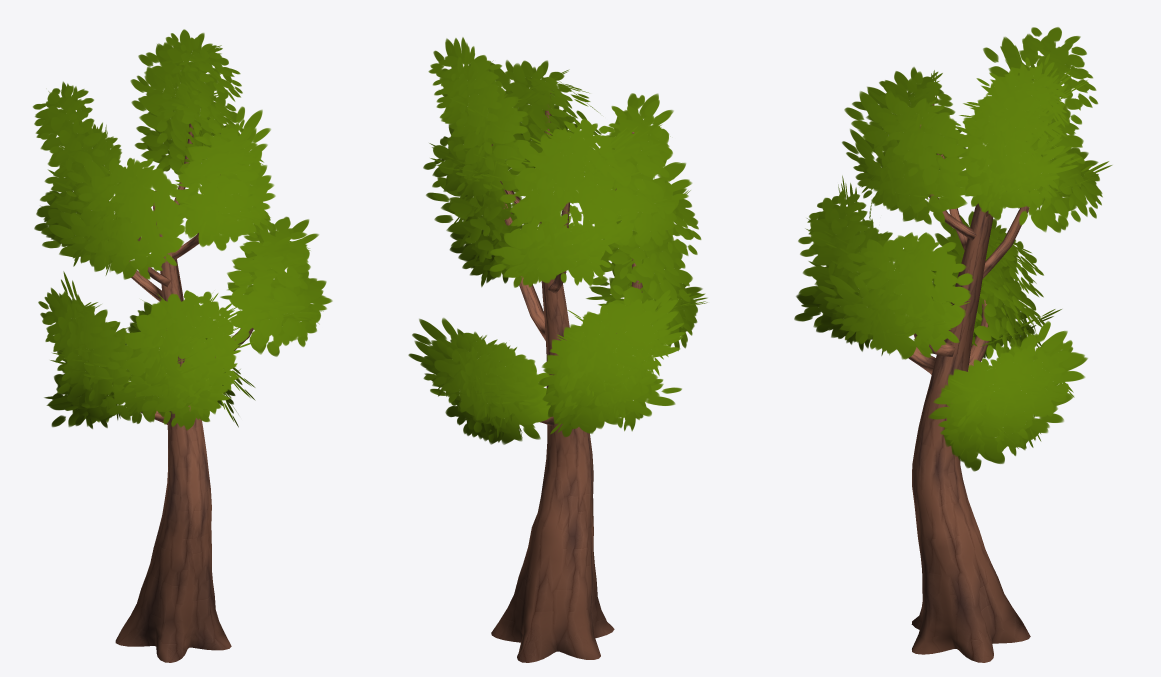
File: pine_tree_fixed.glb
3 views of the same model, side by side, from view 1: azimuth 30°, elevation 25°; view 2: azimuth 150°, elevation 25°; view 3: azimuth 270°, elevation 25° (orthographic). The views are drawn at different scales.
Parts seen in each view (by area): view 1: CommonTree_3; view 2: CommonTree_3; view 3: CommonTree_3.
Part boxes in pixels (box(x1,y1,x2,y2)): CommonTree_3: box(33, 29, 332, 662); CommonTree_3: box(408, 37, 707, 662); CommonTree_3: box(794, 27, 1112, 662).
Bounding box in the file's own units: 4.92 × 9.43 × 5.14.
2 materials, 2 textured.
